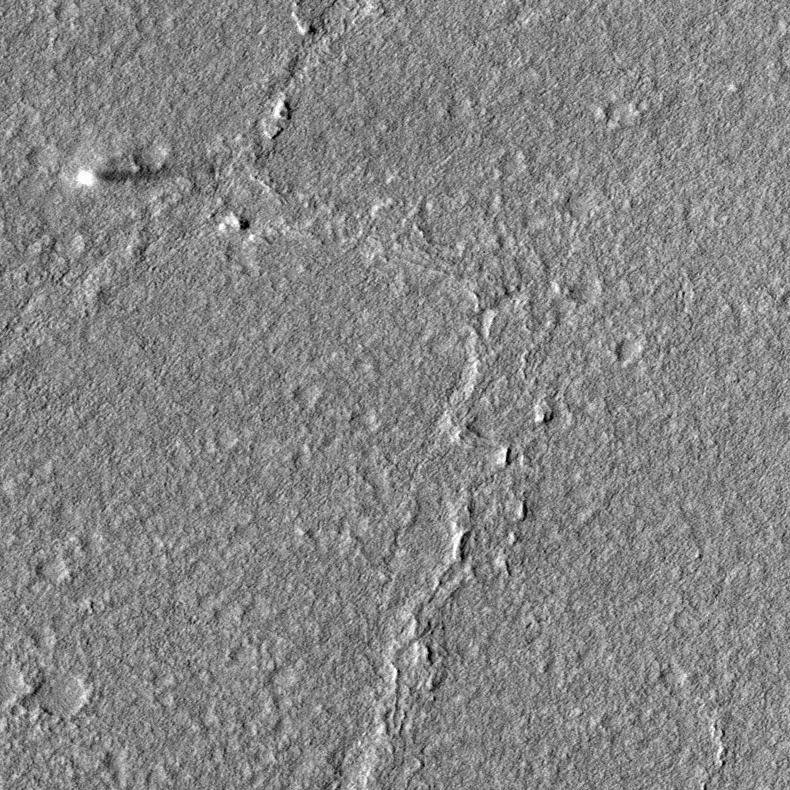dust_devil: (71, 160, 169, 191)
